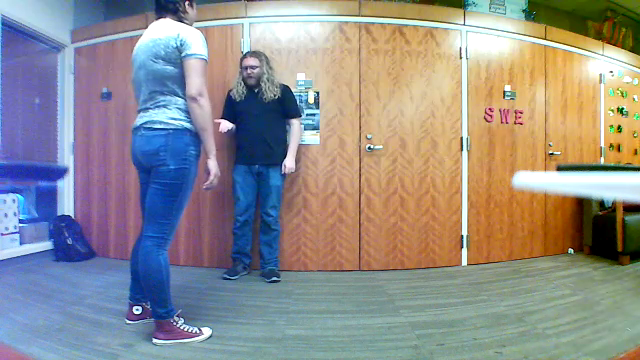land: (211, 115, 240, 136)
